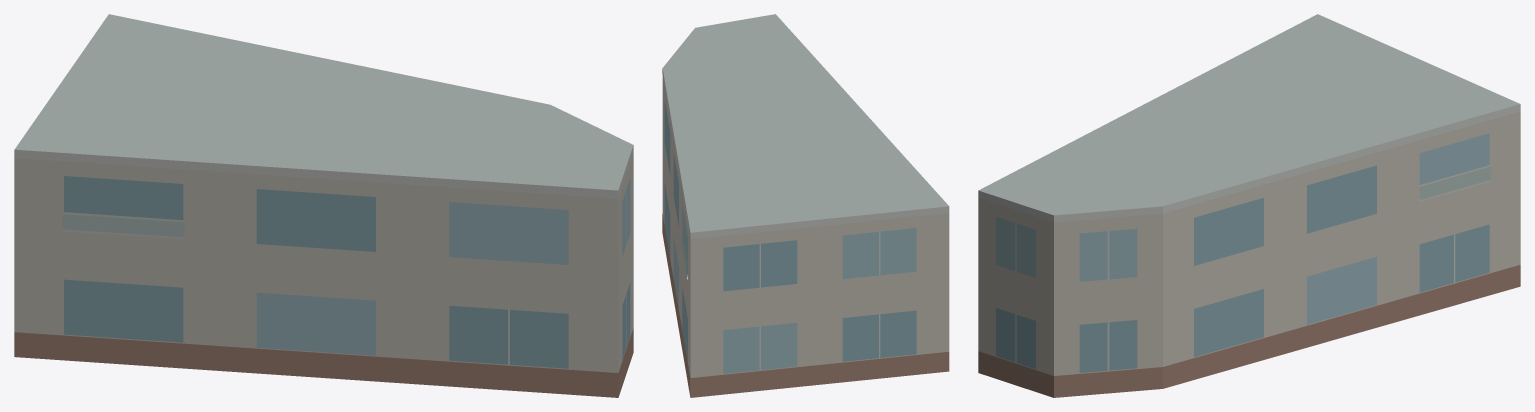
File: survey-upis-32763378.glb
3 renders of one model, left to right at view 1: azimuth 30°, elevation 25°; view 2: azimuth 150°, elevation 25°; view 3: azimuth 270°, elevation 25°, orthographic. The views are drawn at different scales.
Visible parts, largest first — view 1: survey-upis-32763378.tmp; view 2: survey-upis-32763378.tmp; view 3: survey-upis-32763378.tmp.
Part boxes in pixels (x1=…): survey-upis-32763378.tmp: x1=14, y1=14, x2=633, y2=397; survey-upis-32763378.tmp: x1=662, y1=14, x2=949, y2=397; survey-upis-32763378.tmp: x1=978, y1=14, x2=1520, y2=397.
Size of the model in its own units: 14.45 by 6.1 by 16.44.
